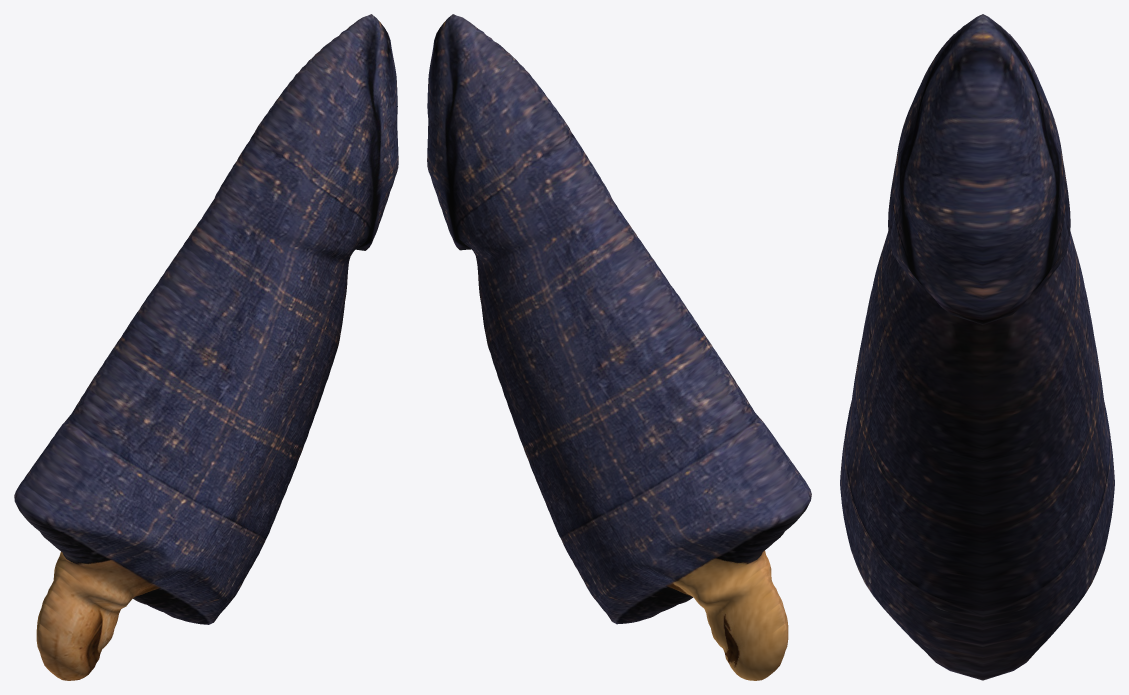
File: 오른팔 기초 모델.glb
The picture shows the model from 3 angles, left to right: view 1: azimuth 30°, elevation 25°; view 2: azimuth 150°, elevation 25°; view 3: azimuth 270°, elevation 25°; orthographic projection. The views are drawn at different scales.
Visible parts, largest first — view 1: RightArm; view 2: RightArm; view 3: RightArm.
Boxes of the visible parts, x1=… form: RightArm: x1=14, y1=14, x2=398, y2=680; RightArm: x1=427, y1=14, x2=811, y2=680; RightArm: x1=840, y1=14, x2=1114, y2=680.
Size of the model in its own units: 0.3814 by 0.585 by 0.1781.
Materials: 2 (2 with a texture image).
